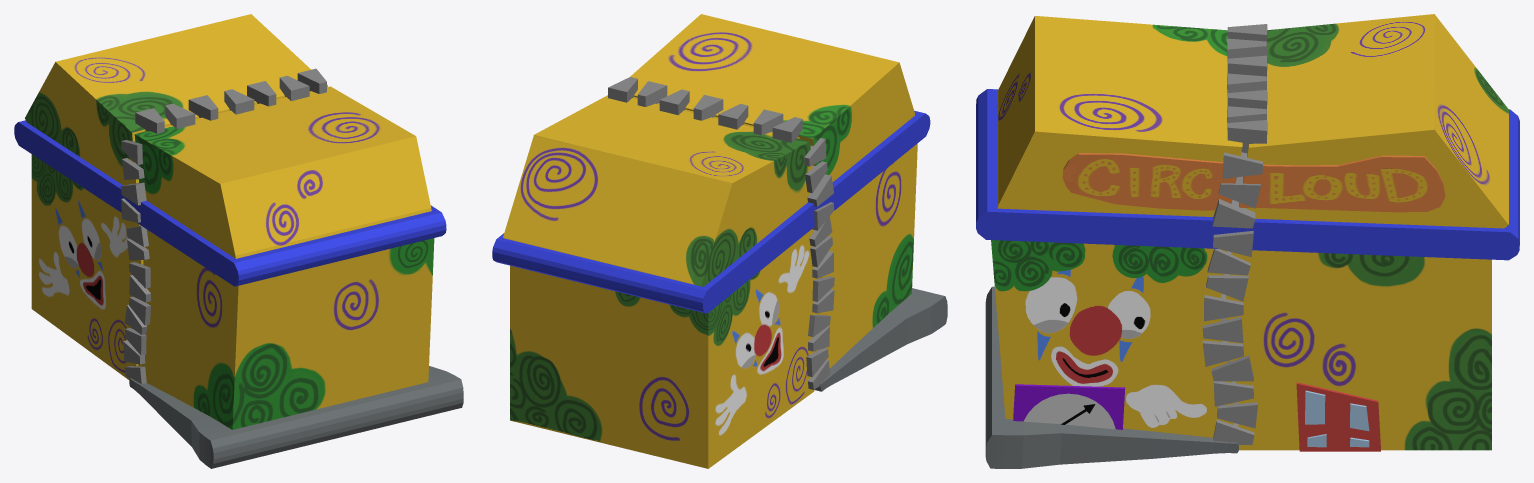
Rendered from Company5.fbx.
3 views of the same model, side by side, from view 1: azimuth 30°, elevation 25°; view 2: azimuth 150°, elevation 25°; view 3: azimuth 270°, elevation 25° (orthographic). The views are drawn at different scales.
Visible parts, largest first — view 1: Cube.094, Cube.092, Cube.093, Cube.095, Cube.205, Cube.203, Cube.204, Cube.200, Cube.206, Cube.202, Cube.201; view 2: Cube.092, Cube.094, Cube.093, Cube.095, Cube.203, Cube.200, Cube.202, Cube.205, Cube.206, Cube.201, Cube.204, Cube.139; view 3: Cube.092, Cube.094, Cube.093, Cube.110, Cube.095, Cube.113, Cube.111, Circle, Cube.106, Cube.201, Cube.100, Cube.108 (+17 smaller).
Boxes of the visible parts, x1,y1,x2,y2 form: Cube.094: [134, 86, 434, 429]; Cube.092: [25, 14, 327, 379]; Cube.093: [14, 120, 446, 286]; Cube.095: [129, 366, 463, 468]; Cube.205: [188, 95, 218, 120]; Cube.203: [224, 89, 254, 114]; Cube.204: [165, 103, 195, 128]; Cube.200: [279, 75, 309, 101]; Cube.206: [135, 108, 164, 133]; Cube.202: [247, 81, 276, 106]; Cube.201: [297, 68, 326, 93]; Cube.092: [503, 95, 819, 468]; Cube.094: [630, 14, 917, 368]; Cube.093: [492, 110, 930, 313]; Cube.095: [814, 288, 947, 391]; Cube.203: [693, 95, 723, 120]; Cube.200: [637, 81, 667, 106]; Cube.202: [659, 89, 689, 115]; Cube.205: [718, 103, 748, 129]; Cube.206: [772, 117, 802, 142]; Cube.201: [608, 77, 637, 102]; Cube.204: [753, 109, 783, 135]; Cube.139: [807, 174, 833, 206]; Cube.092: [1226, 14, 1508, 450]; Cube.094: [991, 16, 1242, 437]; Cube.093: [976, 89, 1519, 260]; Cube.110: [1062, 153, 1445, 212]; Cube.095: [985, 286, 1238, 468]; Cube.113: [1296, 382, 1380, 451]; Cube.111: [1013, 384, 1125, 429]; Circle: [1023, 393, 1115, 429]; Cube.106: [1212, 199, 1255, 228]; Cube.201: [1227, 120, 1267, 152]; Cube.100: [1211, 355, 1253, 381]; Cube.108: [1222, 152, 1262, 178].
Bounding box in the file's own units: 2.56 × 3.97 × 2.61.
